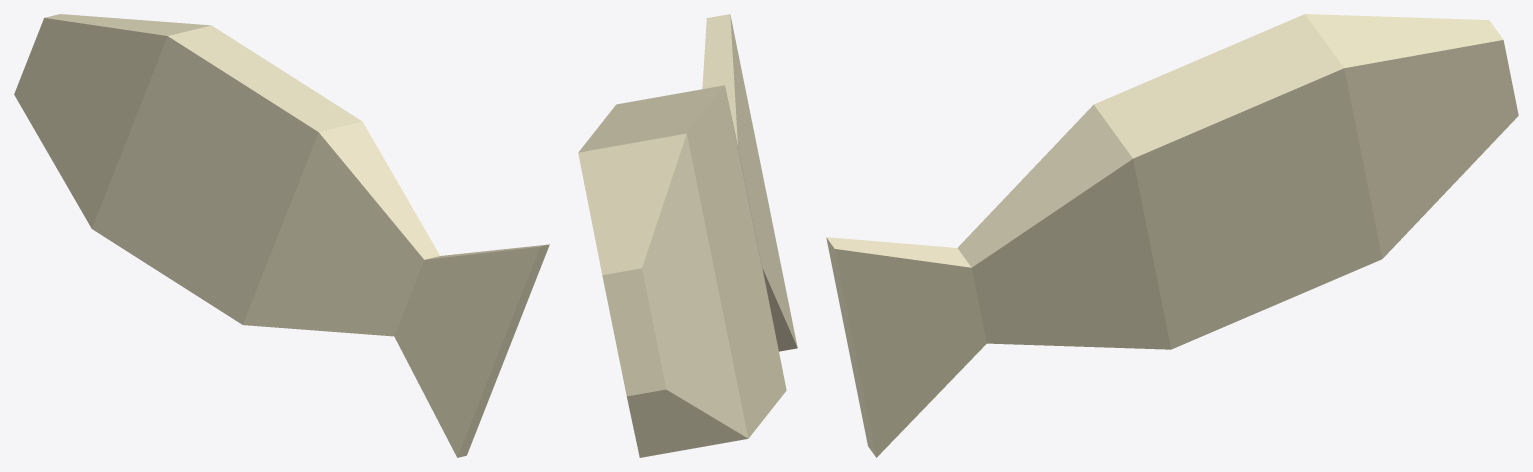
The model's file is Fish-2.fbx.
3 renders of one model, left to right at view 1: azimuth 30°, elevation 25°; view 2: azimuth 150°, elevation 25°; view 3: azimuth 270°, elevation 25°, orthographic. The views are drawn at different scales.
Parts seen in each view (by area): view 1: Fish-2; view 2: Fish-2; view 3: Fish-2.
Boxes of the visible parts, box(x1,y1,x2,y2) form: Fish-2: box(14, 14, 549, 457); Fish-2: box(578, 14, 797, 457); Fish-2: box(826, 14, 1518, 457).
Bounding box in the file's own units: 10.82 × 12.89 × 21.56.
